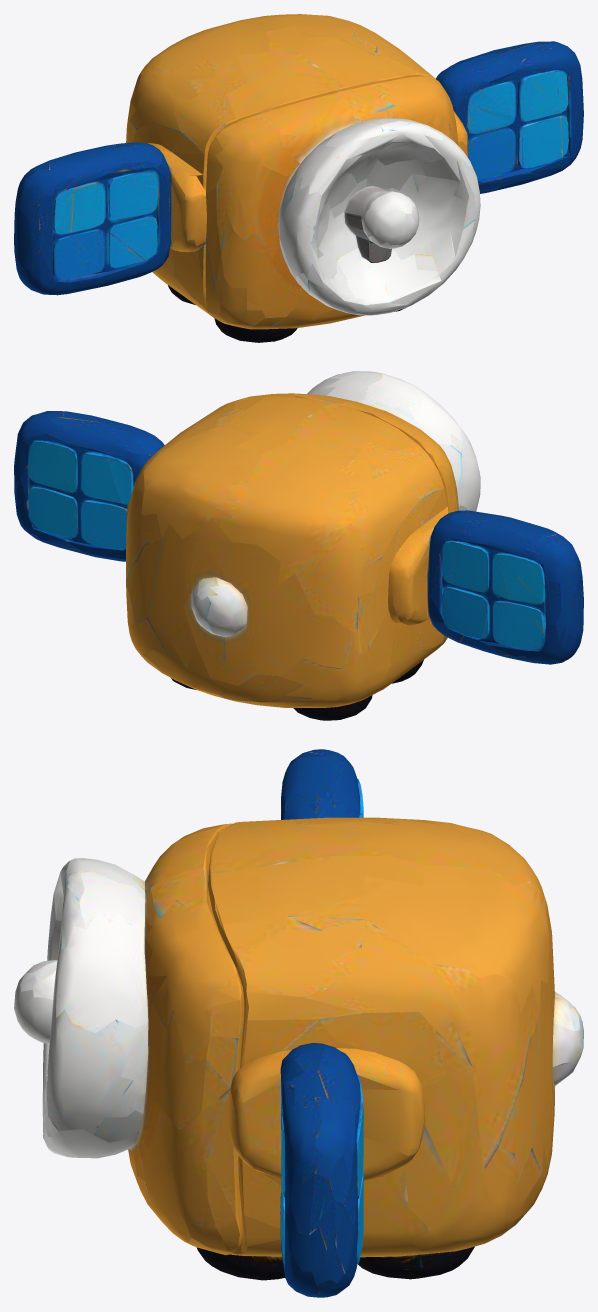
Rendered from rum-satellit.glb.
3 views of the same model, one above another, from view 1: azimuth 30°, elevation 25°; view 2: azimuth 150°, elevation 25°; view 3: azimuth 270°, elevation 25° (orthographic). The views are drawn at different scales.
Size of the model in its own units: 1.9 by 0.7932 by 1.14.
Materials: 1 (1 with a texture image).
